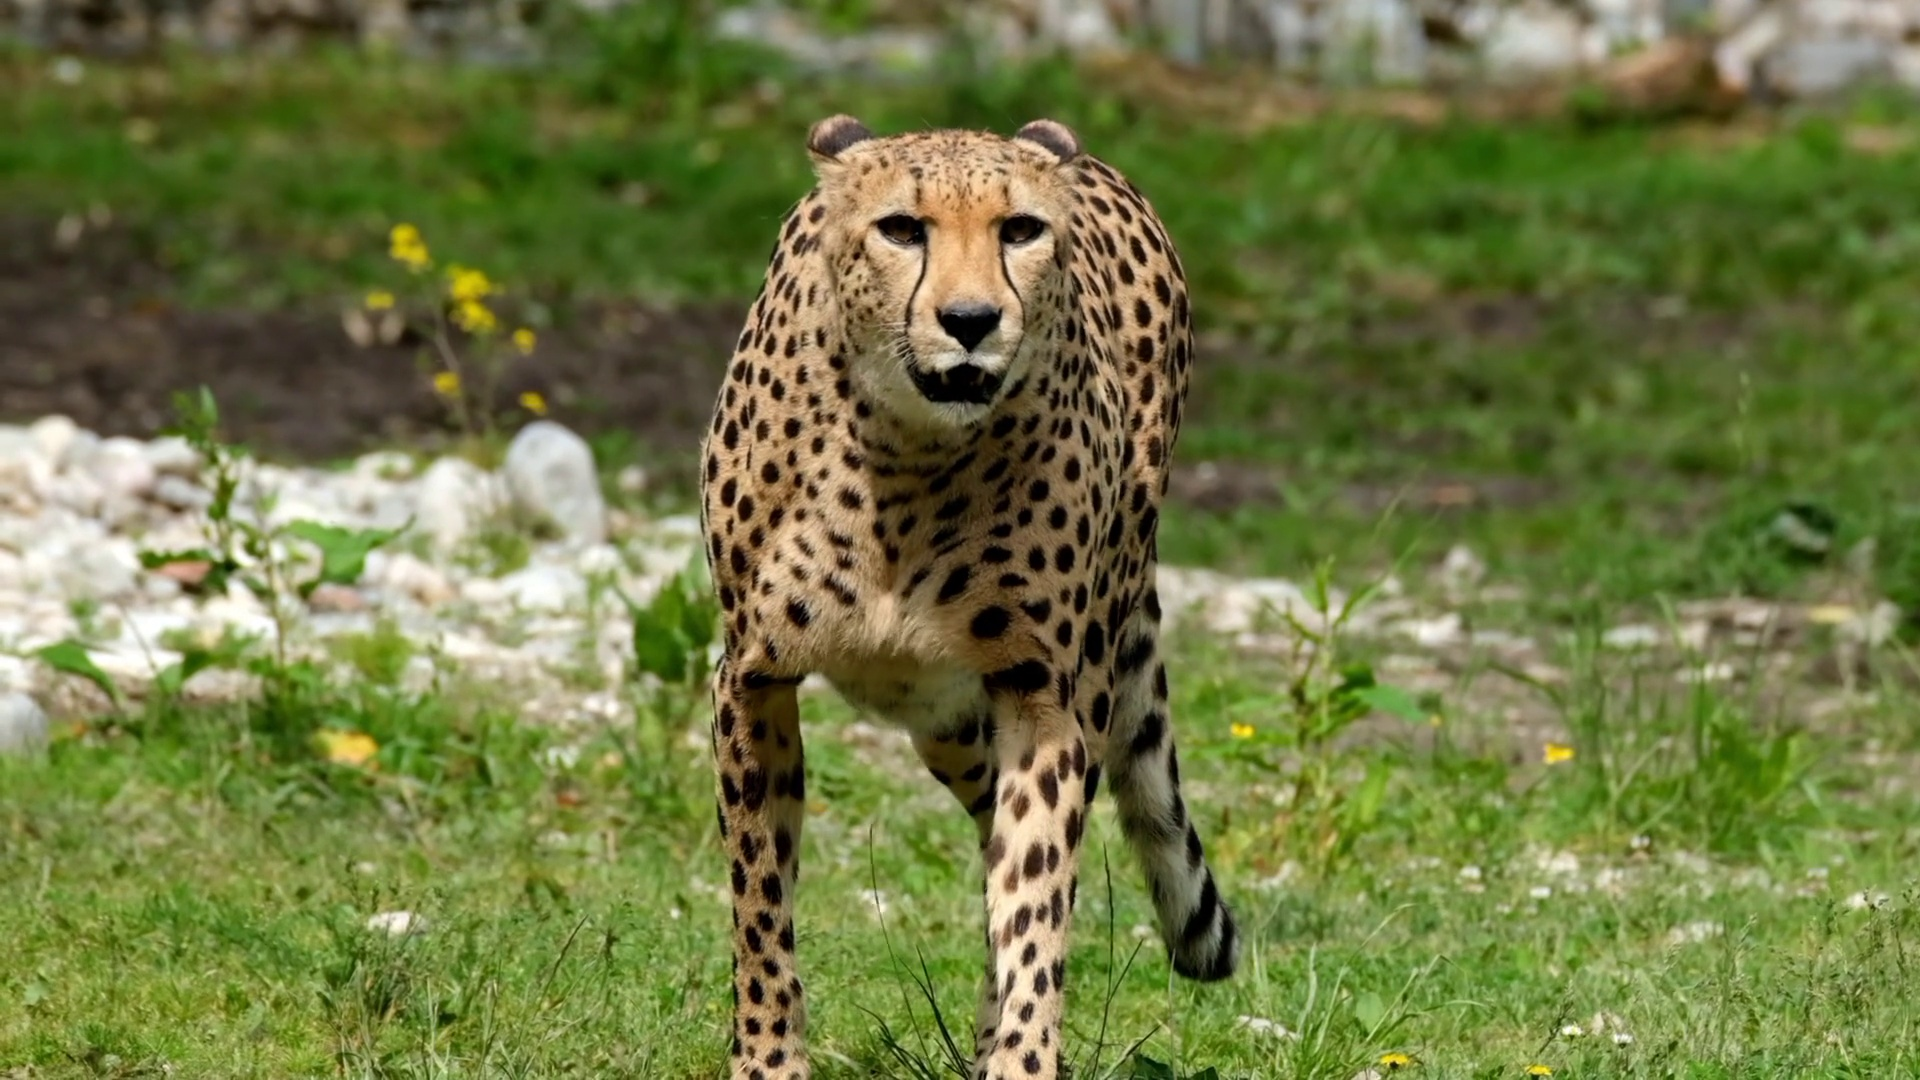Cheetah: (698, 108, 1244, 1080)
